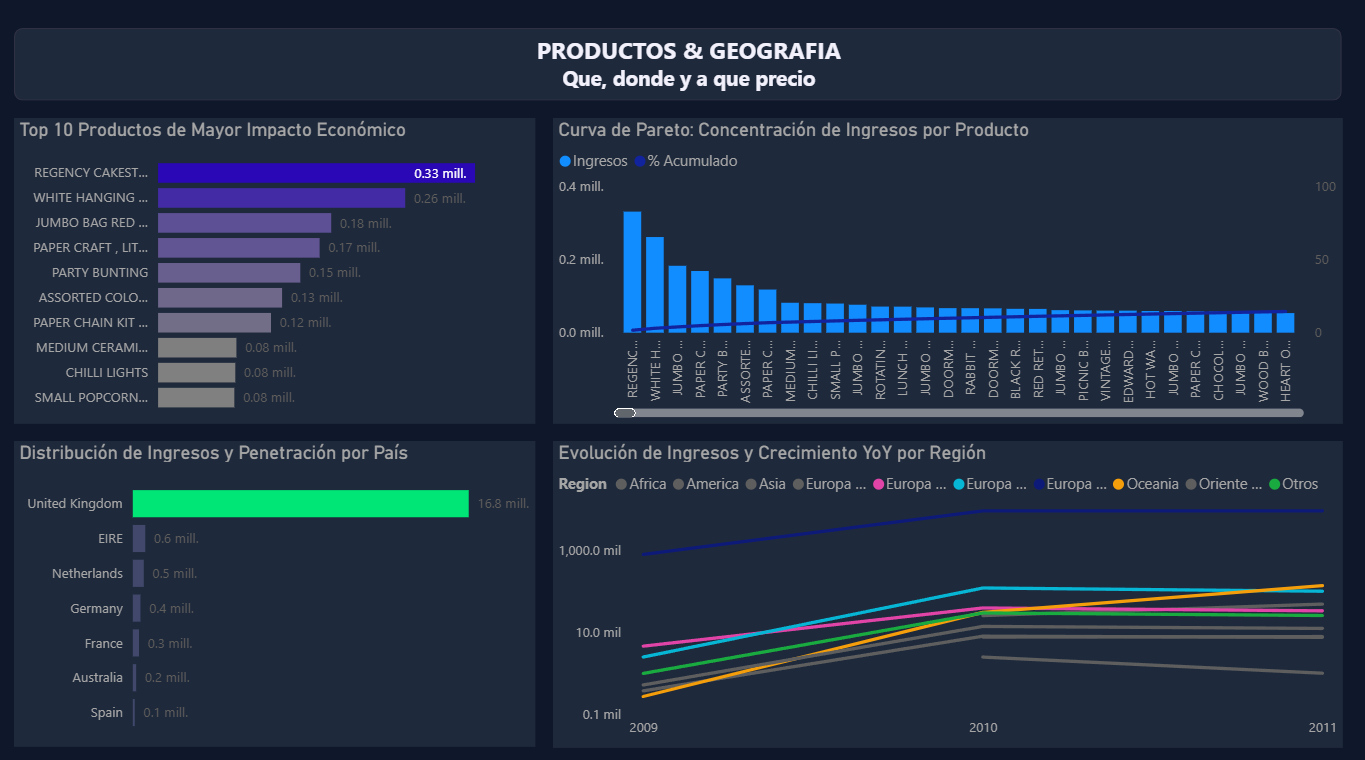

What the dashboard file says about the page in this screenshot:
{"tool":"powerbi","page":{"name":"Página 4","canvas":[1280,720],"ordinal":3},"visuals":[{"type":"shape","box":[33,47.9,1207,66],"z":0},{"type":"textbox","box":[42.9,48.1,1207.1,65.7],"z":1000},{"type":"clusteredBarChart","title":"Top 10 Productos de Mayor Impacto Económico","fields":{"Category":["Consulta 13.descripcion"],"Y":["Sum(Consulta 13.ingresos_totales)"]},"box":[32.5,130,473.8,277.5],"z":2000},{"type":"lineClusteredColumnComboChart","title":"Curva de Pareto: Concentración de Ingresos por Producto","fields":{"Category":["Consulta 15.descripcion"],"Y":["Sum(Consulta 15.ingresos)"],"Y2":["Sum(Consulta 15.pct_acumulado)"]},"box":[522.5,130,717.5,277.5],"z":3000},{"type":"clusteredBarChart","title":"Distribución de Ingresos y Penetración por País","fields":{"Category":["Consulta 17.country"],"Y":["Sum(Consulta 17.ingresos_totales)"]},"box":[32.5,423.8,473.8,277.5],"z":4000},{"type":"lineChart","title":"Evolución de Ingresos y Crecimiento YoY por Región","fields":{"Y":["Sum(Consulta 19.ingresos_anio)"],"Series":["Consulta 19.region"],"Category":["Consulta 19.anio"]},"box":[522.5,423.8,717.5,278.8],"z":5000}]}

Visuals, with their boxes in screenshot pixels (x1, y1, x2, y2), scaled from the page's 1280x720 canvas onto the 1365x760 screenshot:
shape: bbox=(35, 51, 1322, 120)
textbox: bbox=(46, 51, 1333, 120)
"Top 10 Productos de Mayor Impacto Económico" clusteredBarChart: bbox=(35, 137, 540, 430)
"Curva de Pareto: Concentración de Ingresos por Producto" lineClusteredColumnComboChart: bbox=(557, 137, 1322, 430)
"Distribución de Ingresos y Penetración por País" clusteredBarChart: bbox=(35, 447, 540, 740)
"Evolución de Ingresos y Crecimiento YoY por Región" lineChart: bbox=(557, 447, 1322, 742)
